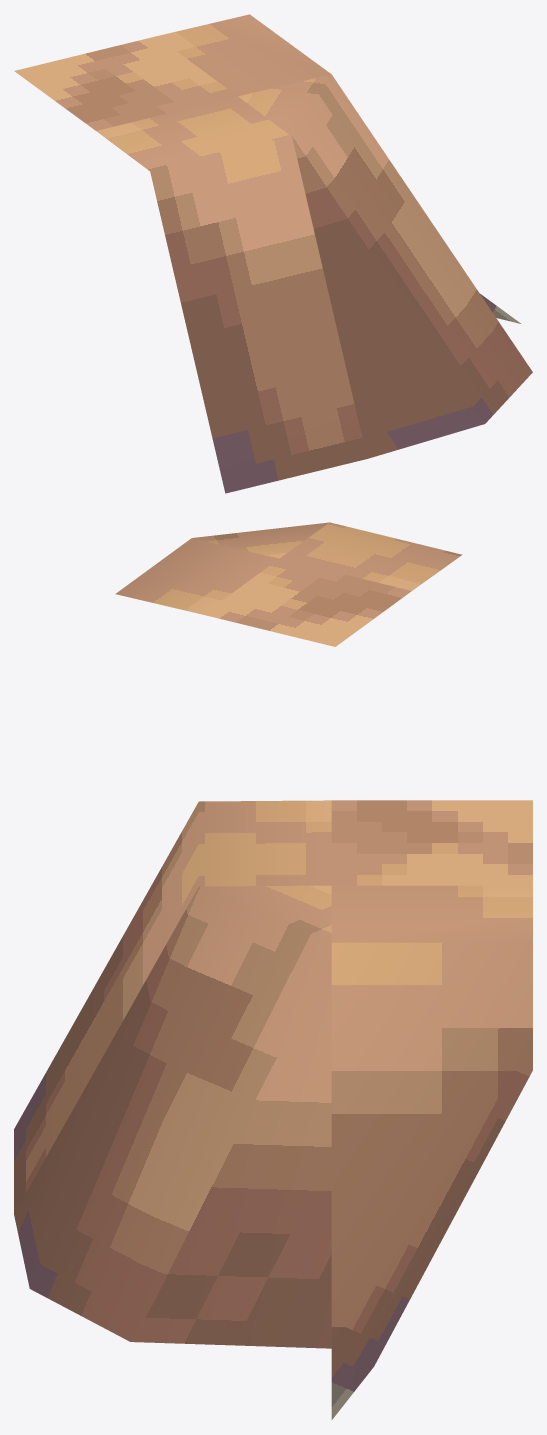
The picture shows the model from 3 angles, top to bottom: view 1: azimuth 30°, elevation 25°; view 2: azimuth 150°, elevation 25°; view 3: azimuth 270°, elevation 25°; orthographic projection. The views are drawn at different scales.
Size of the model in its own units: 1.5 by 1 by 1.29.
2 materials, 2 textured.
